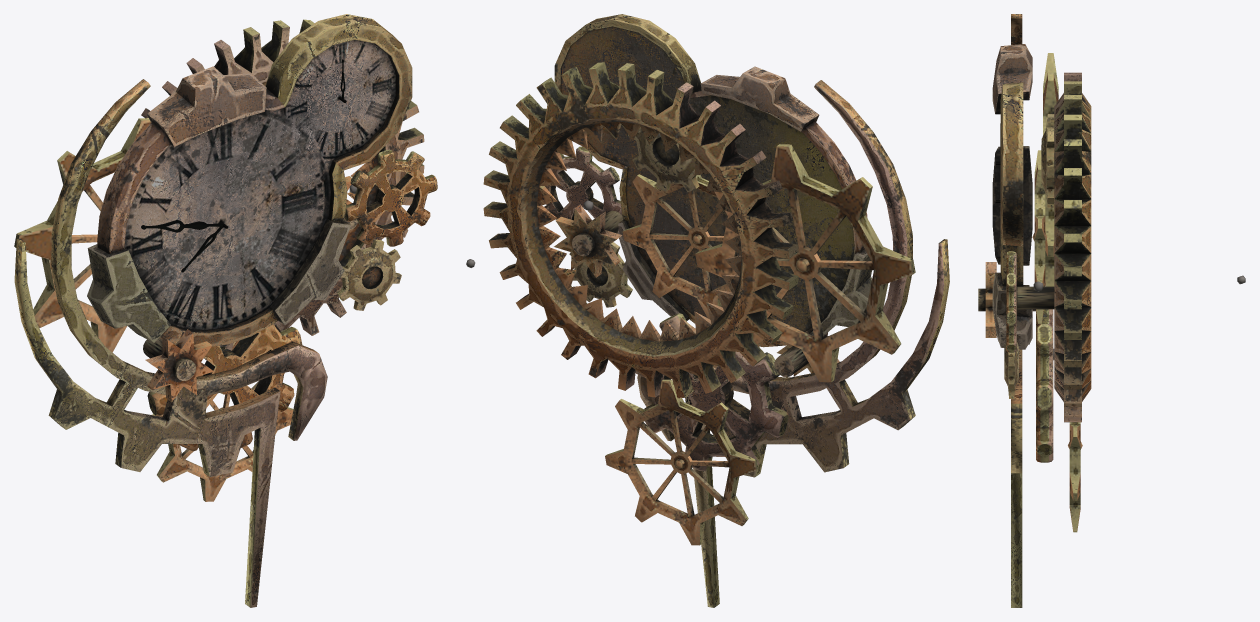
File: SteamPunkClock.obj
3 views of the same model, side by side, from view 1: azimuth 30°, elevation 25°; view 2: azimuth 150°, elevation 25°; view 3: azimuth 270°, elevation 25° (orthographic).
Parts seen in each view (by area): view 1: Object003; view 2: Object003; view 3: Object003.
Part boxes in pixels (<box>): Object003: <box>14,14,437,607</box>; Object003: <box>466,14,949,607</box>; Object003: <box>978,14,1245,607</box>.
Size of the model in its own units: 2.22 by 2.78 by 1.21.
